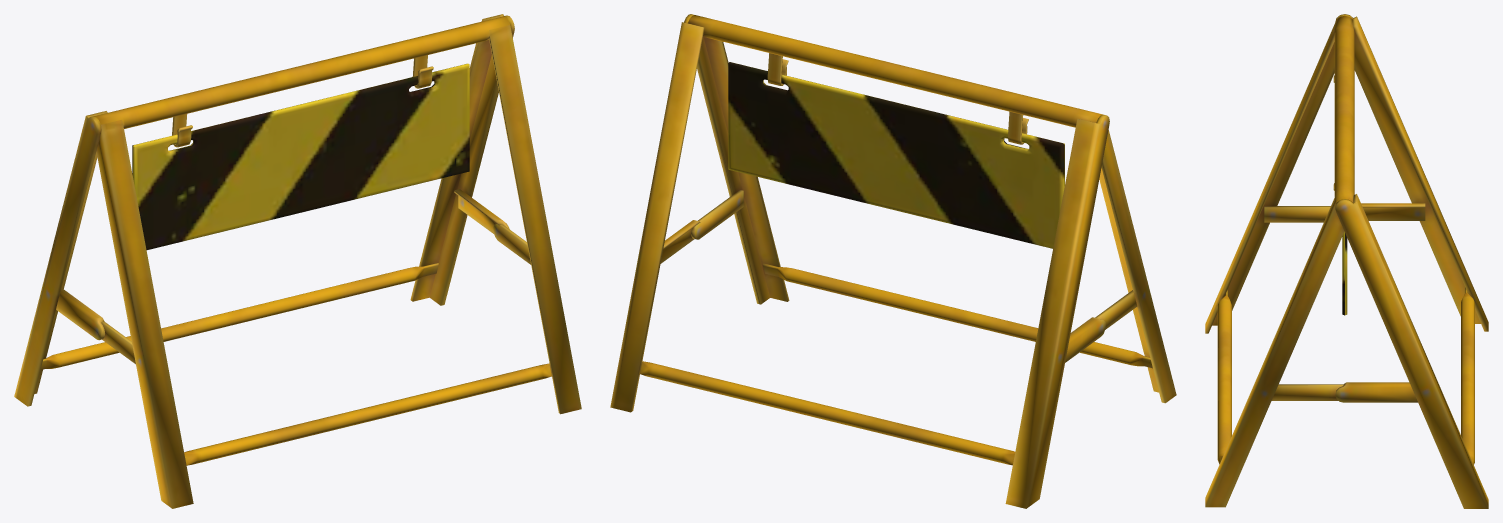
The picture shows the model from 3 angles, left to right: view 1: azimuth 30°, elevation 25°; view 2: azimuth 150°, elevation 25°; view 3: azimuth 270°, elevation 25°; orthographic projection. The views are drawn at different scales.
Bounding box in the file's own units: 9.13 × 7.03 × 5.86.
2 materials, 2 textured.
